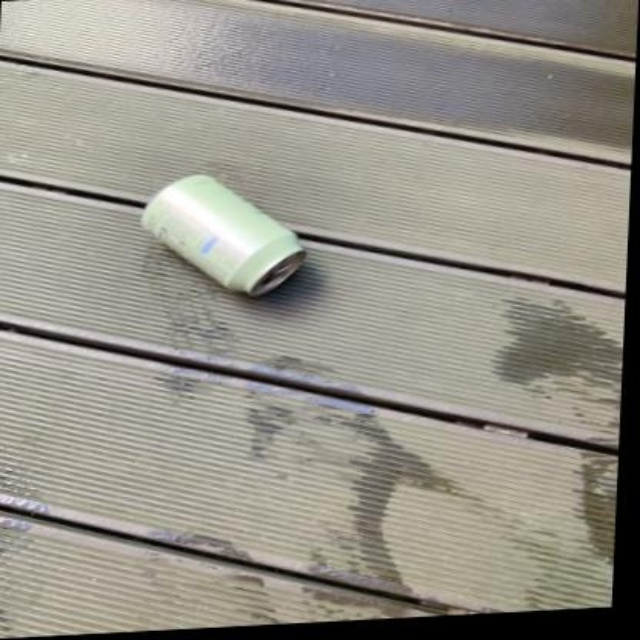trash: (142, 175, 303, 295)
